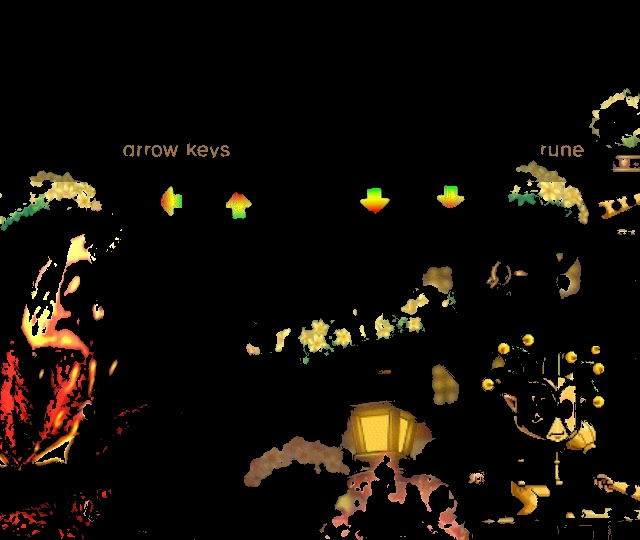rune_box: (103, 151, 519, 248)
